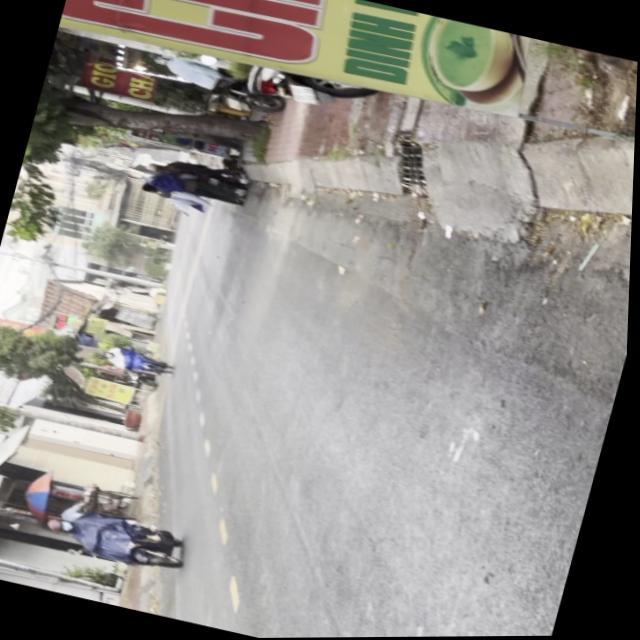helmet: (47, 516, 78, 536)
licenseplate: (40, 499, 194, 580)
